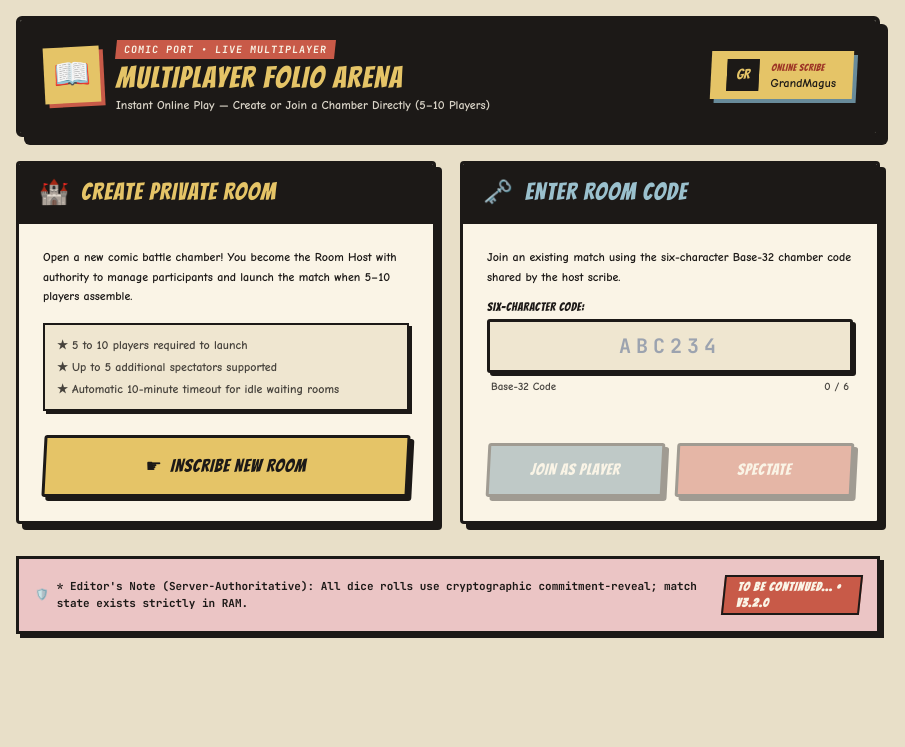
Test case: MultiplayerLobbyScreen Component Tests (Milestone 1.1) › displays error message when room is not found
Use valid Base-32 6-character code (A-Z and 2-9, excluding vowels O, I, etc.)
Type "NTFND2" into the field with placeholder "ABC234" at (670, 346), box [487,319,853,373]
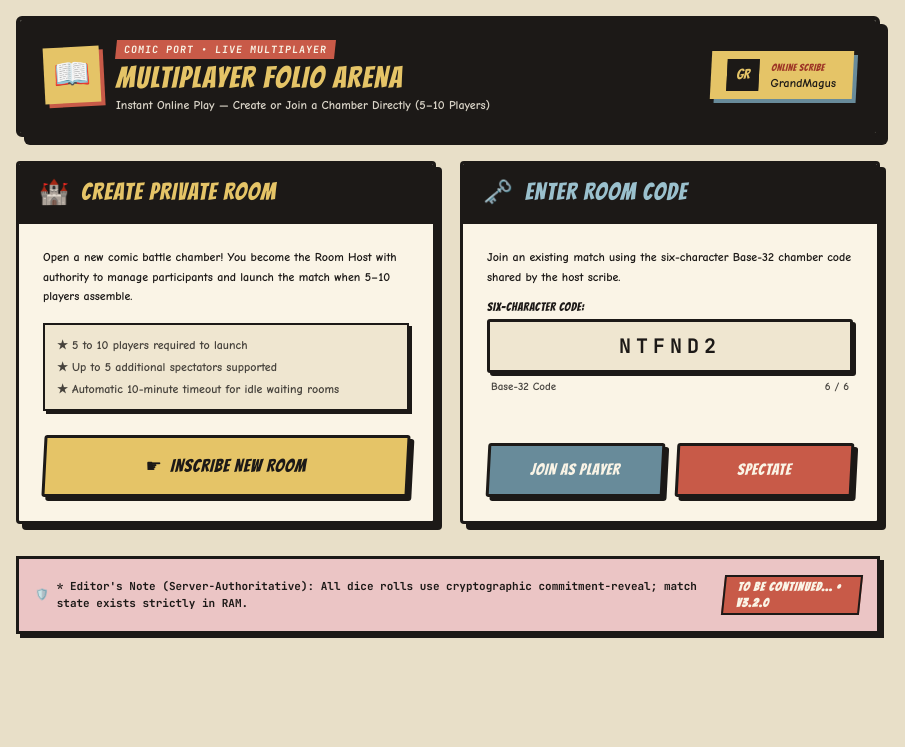
Check: the button "Join as Player" is enabled
Click the button "Join as Player" at (576, 470), box [486,442,665,496]
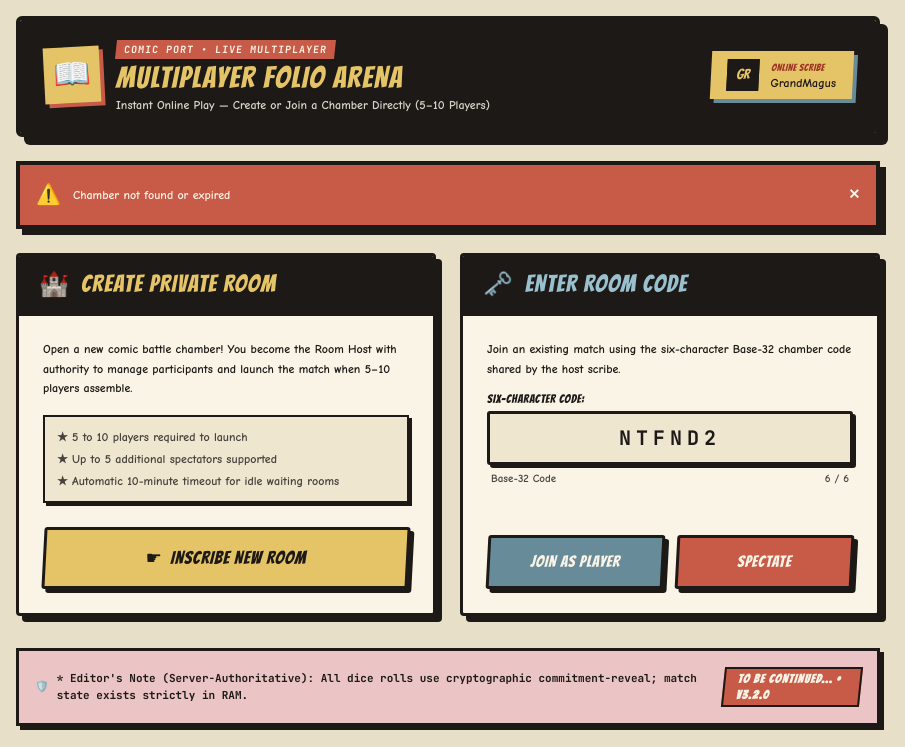
Check: the text "Chamber not found or expired" is shown, box [73,188,230,202]
